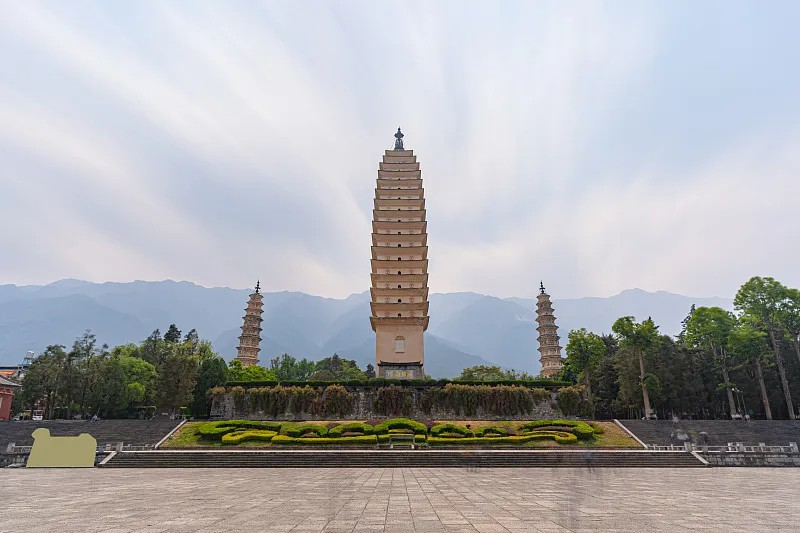ThreePagoda: (370, 125, 429, 380)
